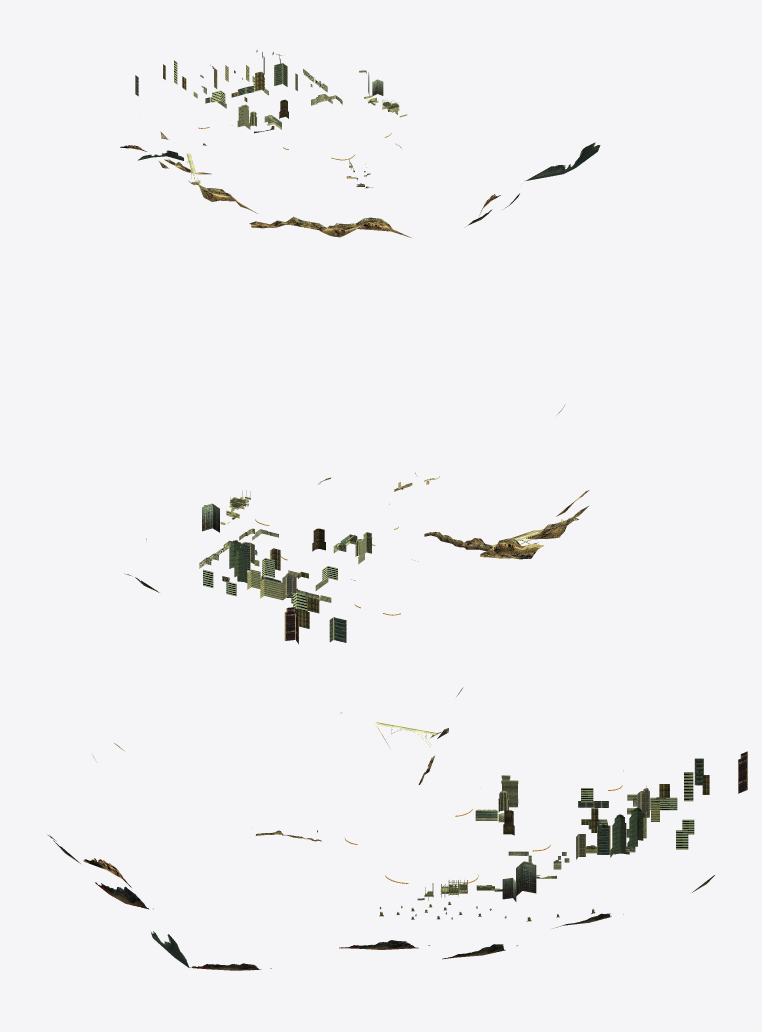
The model's file is track-B2_C6_V2_env.glb.
3 renders of one model, top to bottom at view 1: azimuth 30°, elevation 25°; view 2: azimuth 150°, elevation 25°; view 3: azimuth 270°, elevation 25°, orthographic. The views are drawn at different scales.
Parts seen in each view (by area): view 1: B2_C6_V2_env; view 2: B2_C6_V2_env; view 3: B2_C6_V2_env.
Part boxes in pixels (x1,y1,x2,y2): B2_C6_V2_env: (120,50,600,237); B2_C6_V2_env: (124,404,589,644); B2_C6_V2_env: (48,687,747,970).
Size of the model in its own units: 2580 by 208 by 2396.
Materials: 32 (31 with a texture image).
